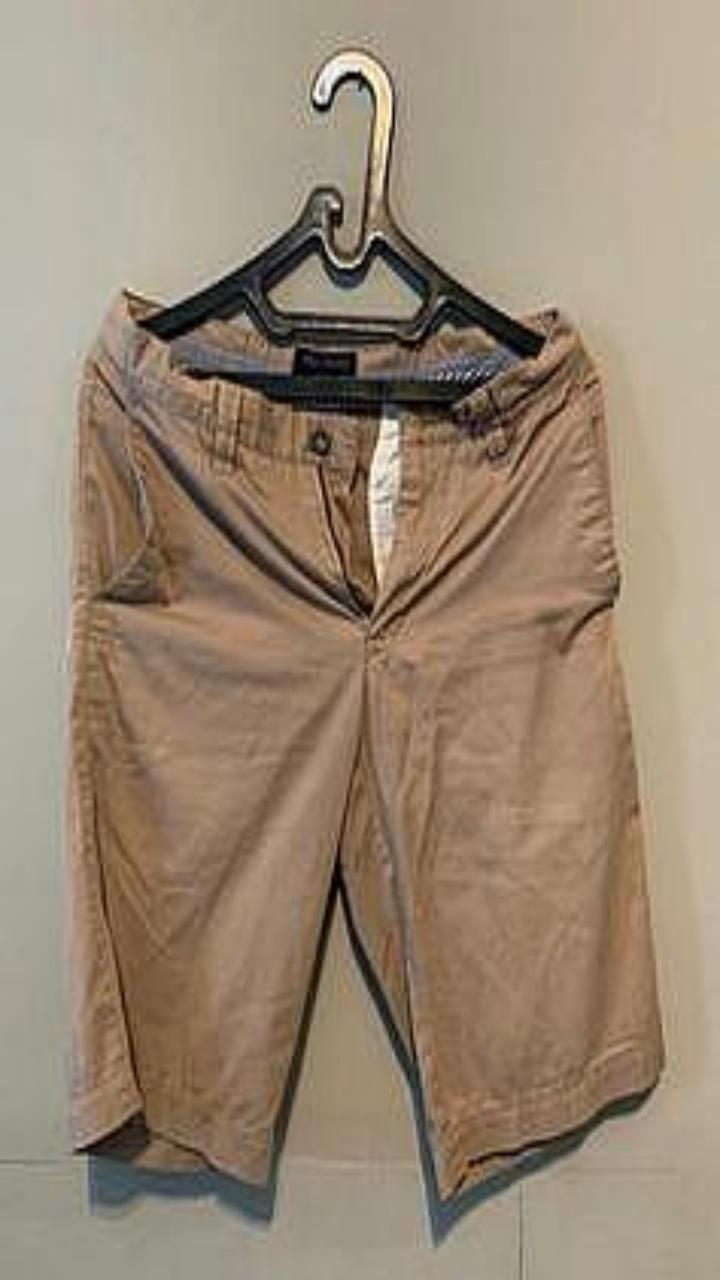Shorts: (67, 289, 663, 1198)
